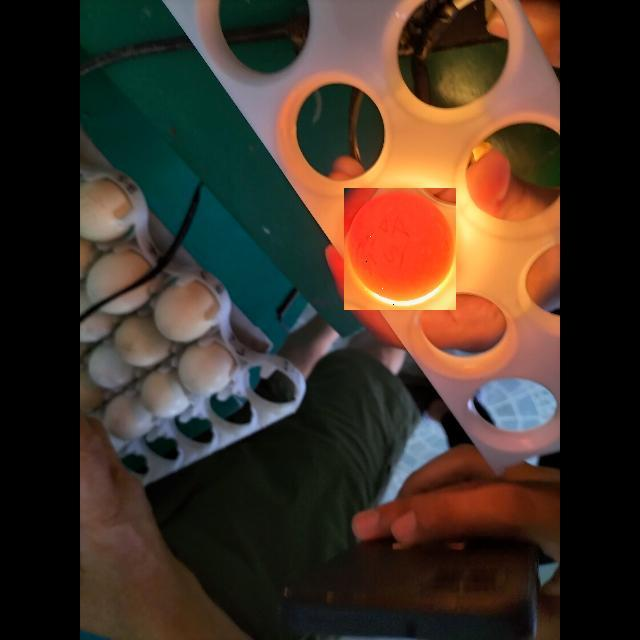Infertile: (344, 188, 456, 310)
